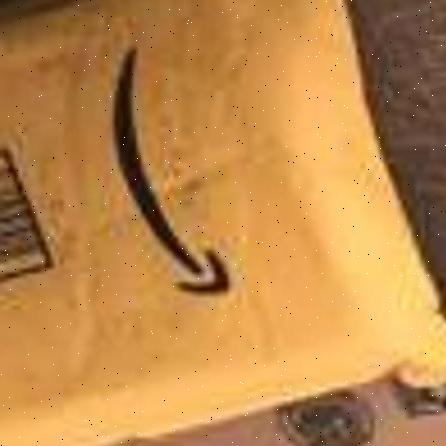Amazon: (0, 0, 412, 446)
